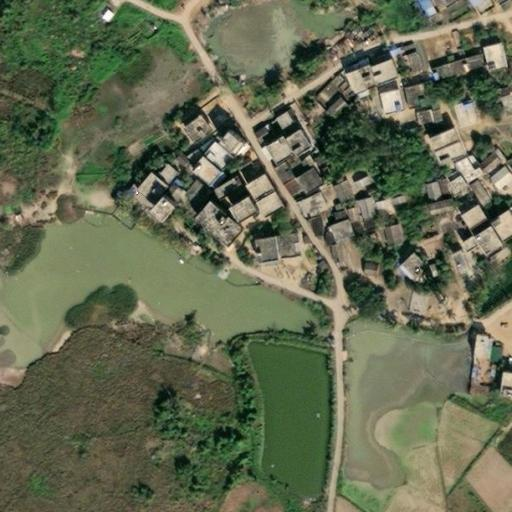building: (249, 223, 300, 261), (336, 49, 389, 76), (423, 127, 457, 163), (138, 135, 173, 169), (209, 214, 243, 248), (132, 173, 165, 206), (414, 225, 448, 257), (186, 155, 218, 187), (339, 67, 374, 96), (454, 204, 485, 235), (166, 175, 196, 207), (194, 201, 224, 232), (181, 187, 210, 218), (197, 143, 228, 172), (447, 154, 476, 185), (316, 92, 346, 121), (179, 117, 208, 146), (262, 138, 290, 167), (486, 212, 512, 243), (390, 209, 414, 241), (445, 100, 472, 128), (281, 131, 308, 159), (232, 200, 260, 227), (472, 227, 499, 255), (367, 60, 394, 87), (153, 199, 180, 226), (292, 189, 318, 217), (242, 176, 269, 202), (462, 175, 488, 202), (253, 191, 279, 217), (370, 191, 395, 218), (481, 43, 504, 72), (371, 89, 397, 114), (393, 85, 419, 110), (478, 165, 504, 190), (209, 178, 237, 201), (323, 220, 347, 246), (459, 370, 484, 394), (321, 177, 344, 203), (460, 236, 483, 262), (221, 133, 245, 157), (388, 261, 413, 284), (288, 171, 311, 195), (420, 256, 442, 279), (93, 0, 116, 22), (284, 155, 306, 177), (420, 197, 448, 214), (349, 195, 368, 220), (268, 110, 289, 132), (438, 60, 461, 80), (330, 248, 350, 271), (416, 180, 434, 203), (375, 224, 394, 245), (398, 292, 416, 314), (150, 165, 170, 184), (440, 173, 460, 192), (351, 260, 374, 276), (404, 108, 424, 126), (267, 164, 285, 184), (497, 372, 512, 396), (457, 55, 479, 71), (245, 124, 263, 143), (285, 198, 302, 218), (470, 336, 484, 360), (463, 0, 487, 13), (399, 52, 414, 71), (300, 217, 315, 236), (344, 175, 363, 189), (324, 208, 340, 224), (251, 144, 266, 161), (429, 179, 441, 200), (394, 250, 409, 266), (340, 205, 354, 222), (354, 217, 369, 231), (483, 344, 495, 361), (409, 0, 426, 11), (508, 96, 512, 112)
